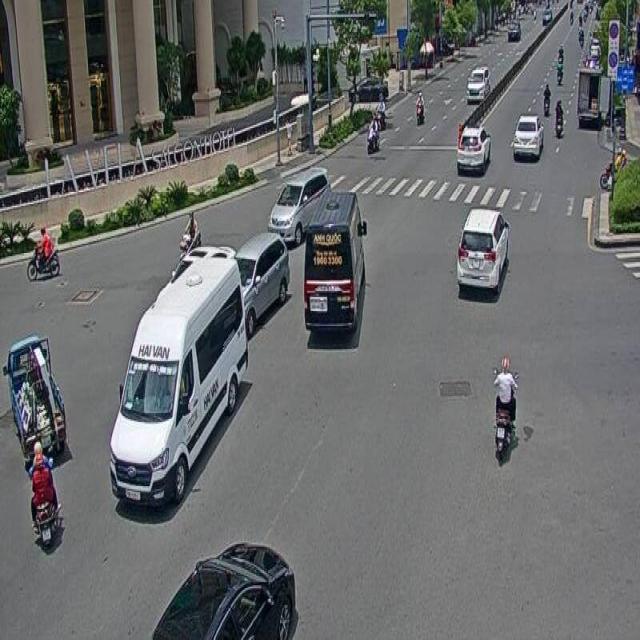car: (222, 229, 289, 338), (455, 204, 509, 300), (268, 166, 330, 247), (456, 122, 490, 175), (512, 112, 542, 164)
motorcycle: (6, 329, 66, 463), (27, 437, 62, 550), (492, 355, 520, 468)
truck: (109, 250, 256, 516), (304, 189, 366, 338)
